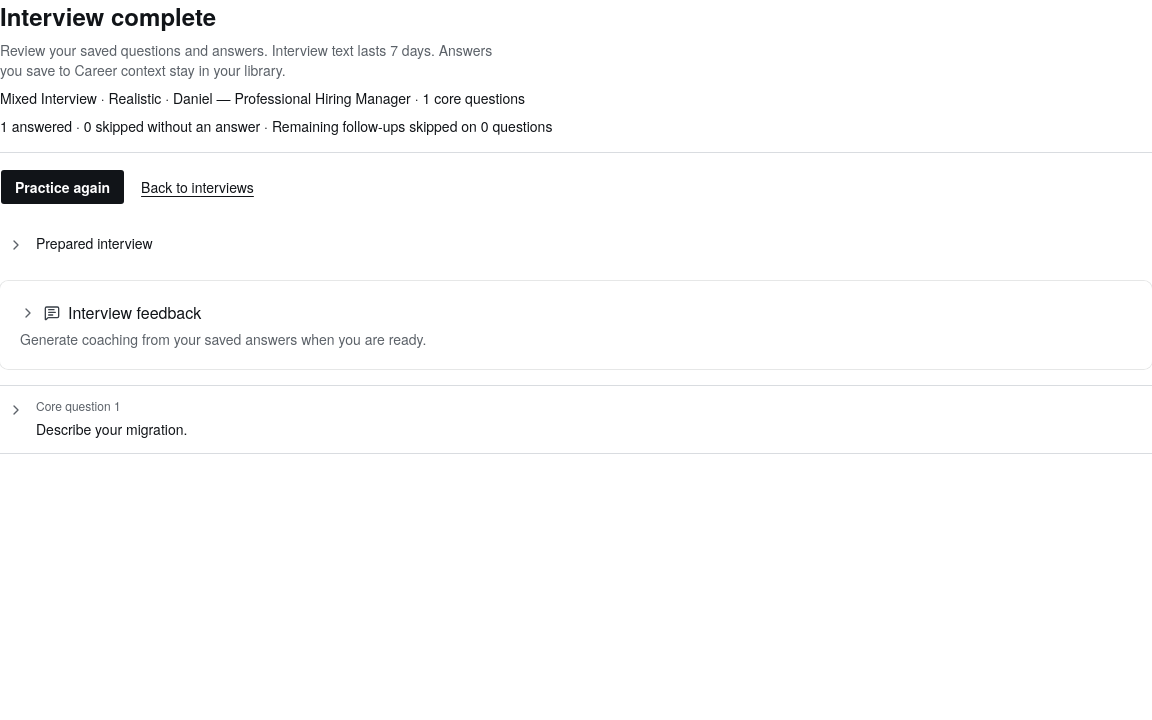
saves individual core and follow-up answers from completed reviews through an editable preview
The width and height of the screenshot is (1152, 720).
Click the button "Core question 1 Describe your migration." at [78, 406], box [0, 386, 1151, 453]
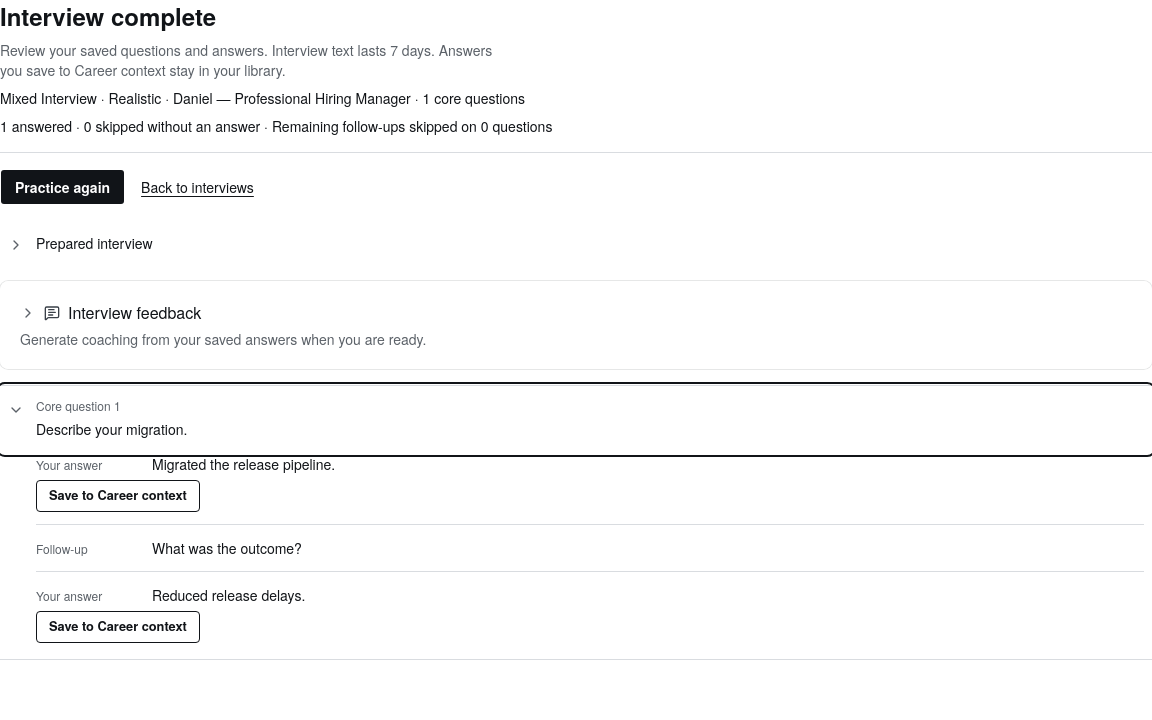
Check: the number of buttons "Save to Career context" is 2
Click the button "Save to Career context" below "Migrated the release pipeline." at [118, 496], box [36, 480, 200, 512]
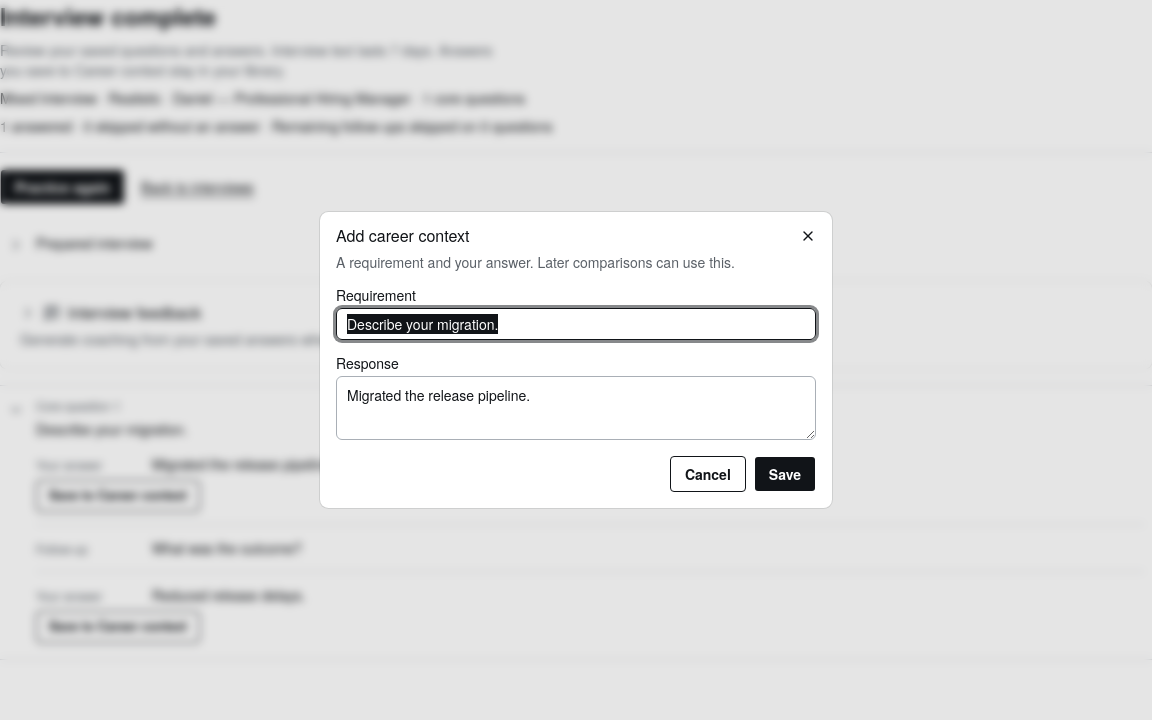
Check: the field labelled "Requirement" holds "Describe your migration.", box [336, 308, 816, 340]
Check: the text box labelled "Response" holds "Migrated the release pipeline.", box [336, 376, 816, 440]
Click the button "Cancel" at [708, 474], box [670, 456, 746, 492]
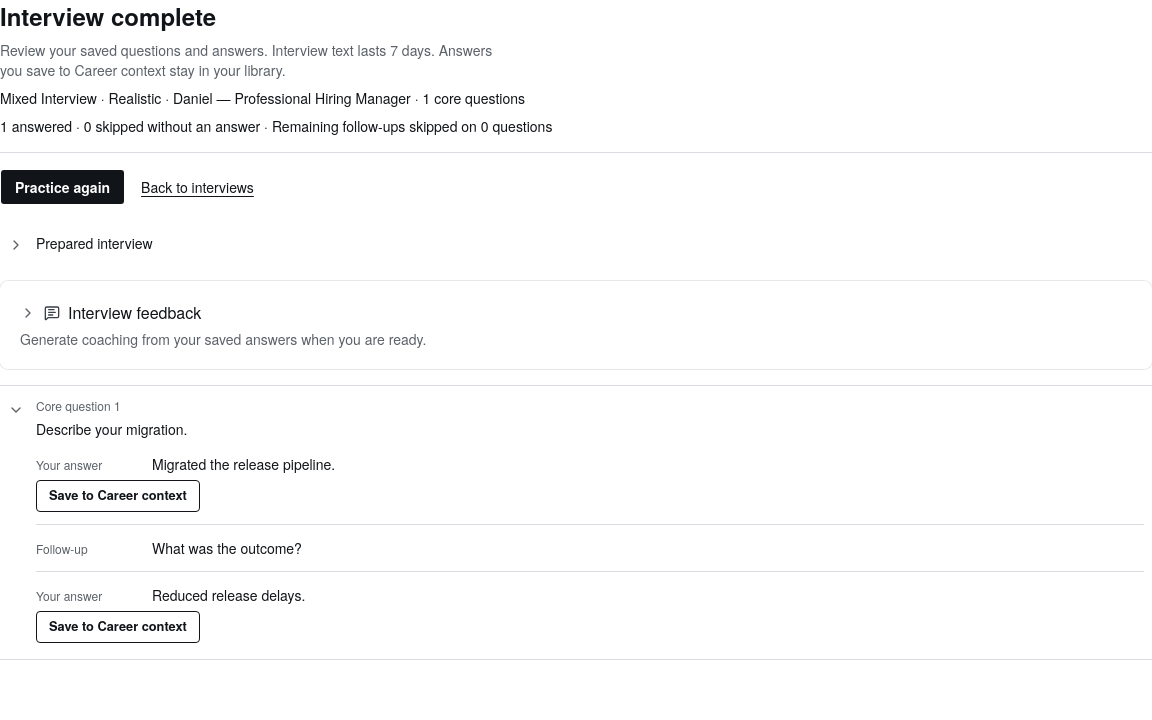
Click the button "Save to Career context" below "Reduced release delays." at [118, 627], box [36, 611, 200, 643]
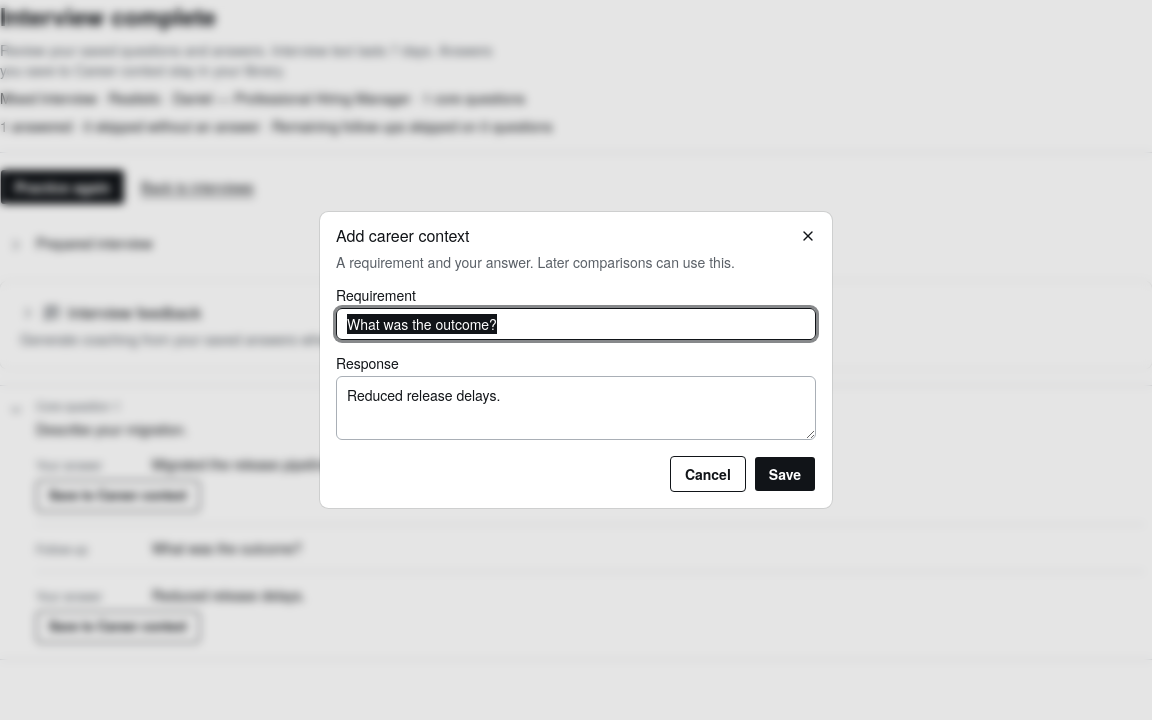
Check: the field labelled "Requirement" holds "What was the outcome?"
Check: the text box labelled "Response" holds "Reduced release delays.", box [336, 376, 816, 440]
Replace the text in the field labelled "Requirement" with "Release outcomes" at [576, 324], box [336, 308, 816, 340]
Replace the text in the text box labelled "Response" with "Reduced release delays by one day." at [576, 408], box [336, 376, 816, 440]
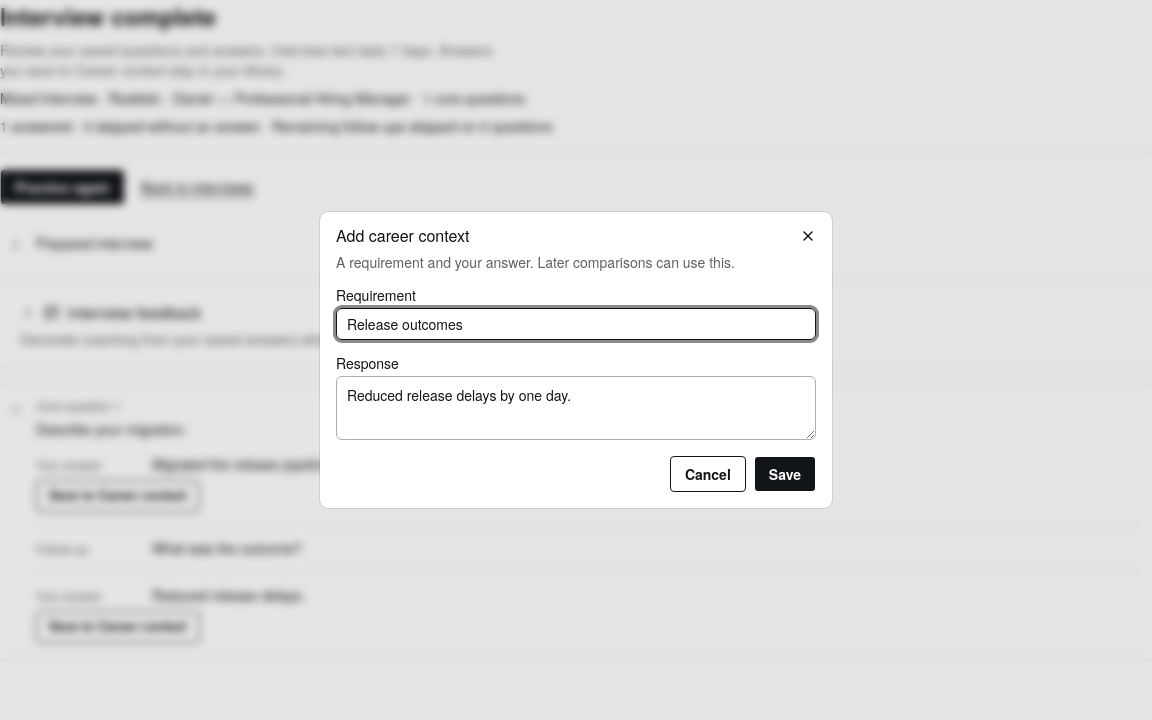
Click the button "Save" at [785, 474], box [754, 456, 816, 492]
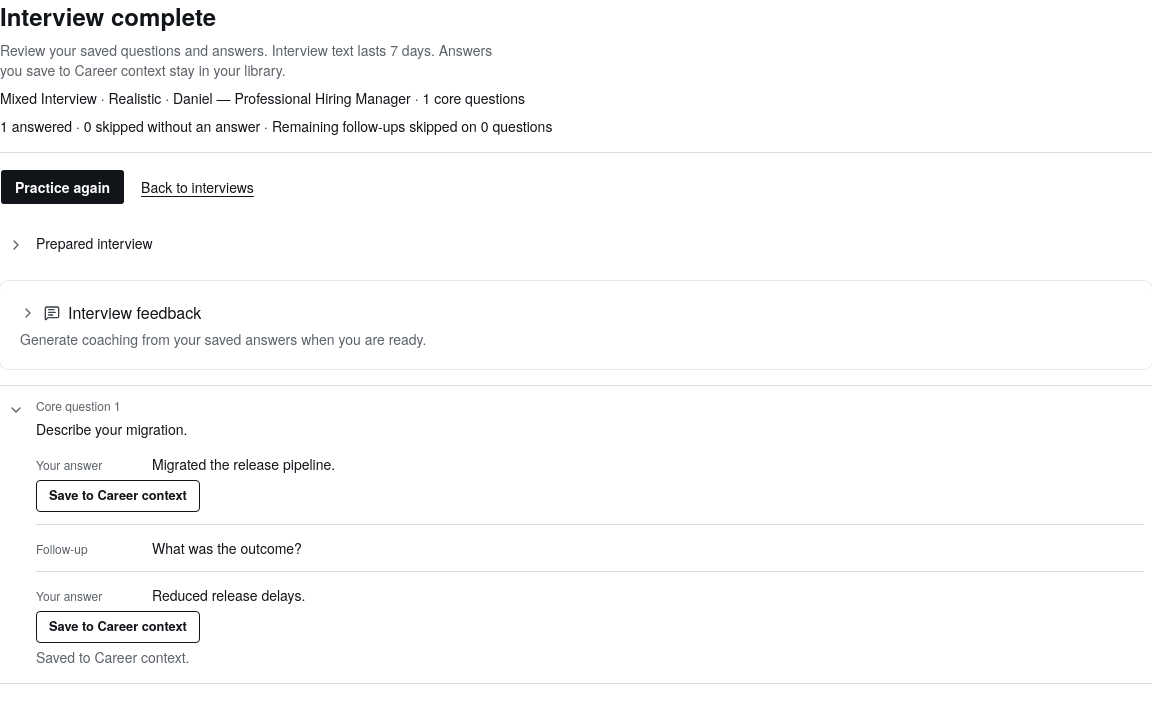
Check: the text "Reduced release delays." is shown, box [152, 585, 305, 605]
Check: the message reads "Saved to Career context.", box [36, 647, 190, 667]
